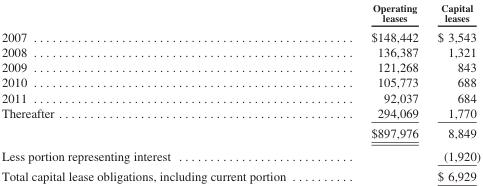table: (0, 1, 479, 182)
table column: (0, 1, 327, 182), (327, 1, 427, 182), (427, 1, 479, 182)
table column header: (0, 1, 479, 26)
table row: (0, 1, 479, 26), (0, 143, 479, 165), (0, 122, 479, 143), (0, 26, 479, 44), (0, 104, 479, 122), (0, 165, 479, 182), (0, 44, 479, 59), (0, 59, 479, 74), (0, 74, 479, 89), (0, 89, 479, 104)
